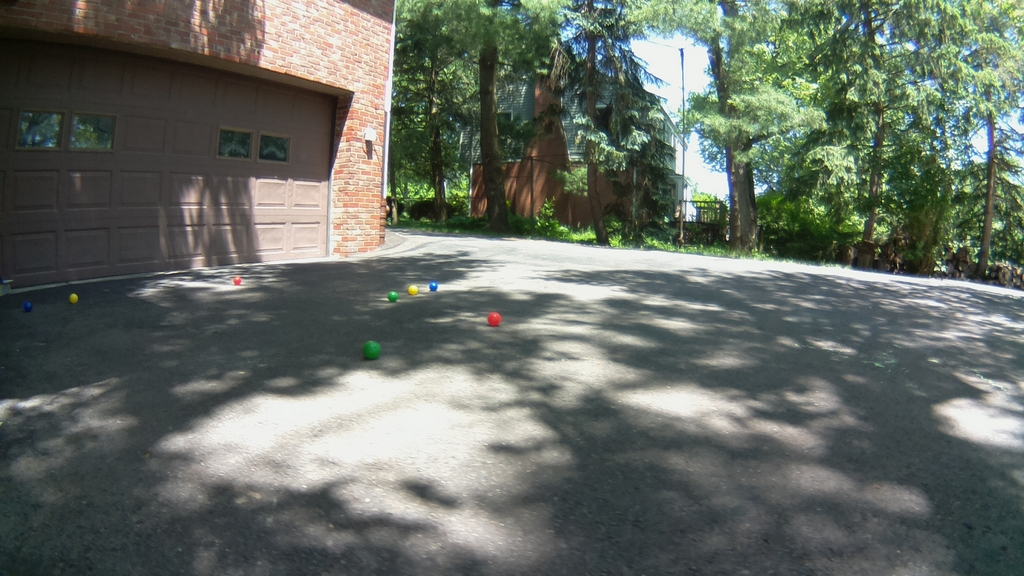ball: (430, 283, 435, 291)
